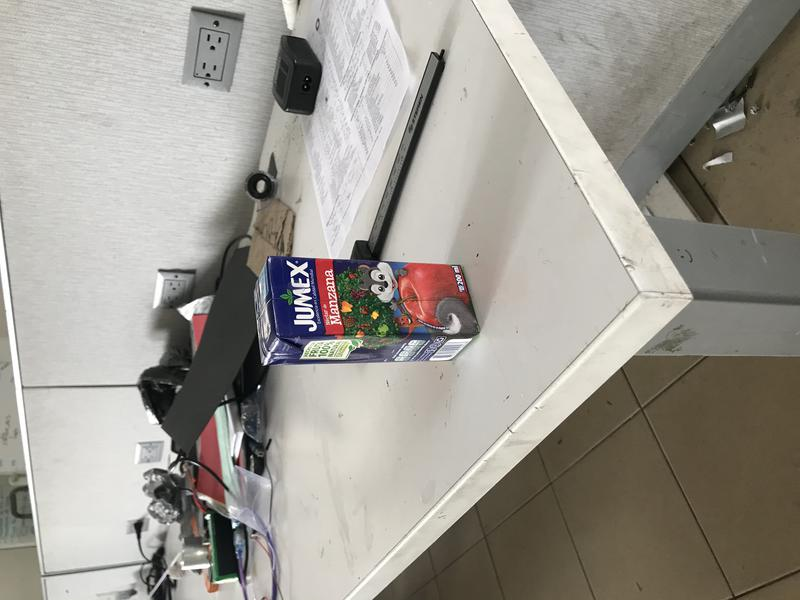jumex_cajita: (254, 256, 481, 367)
